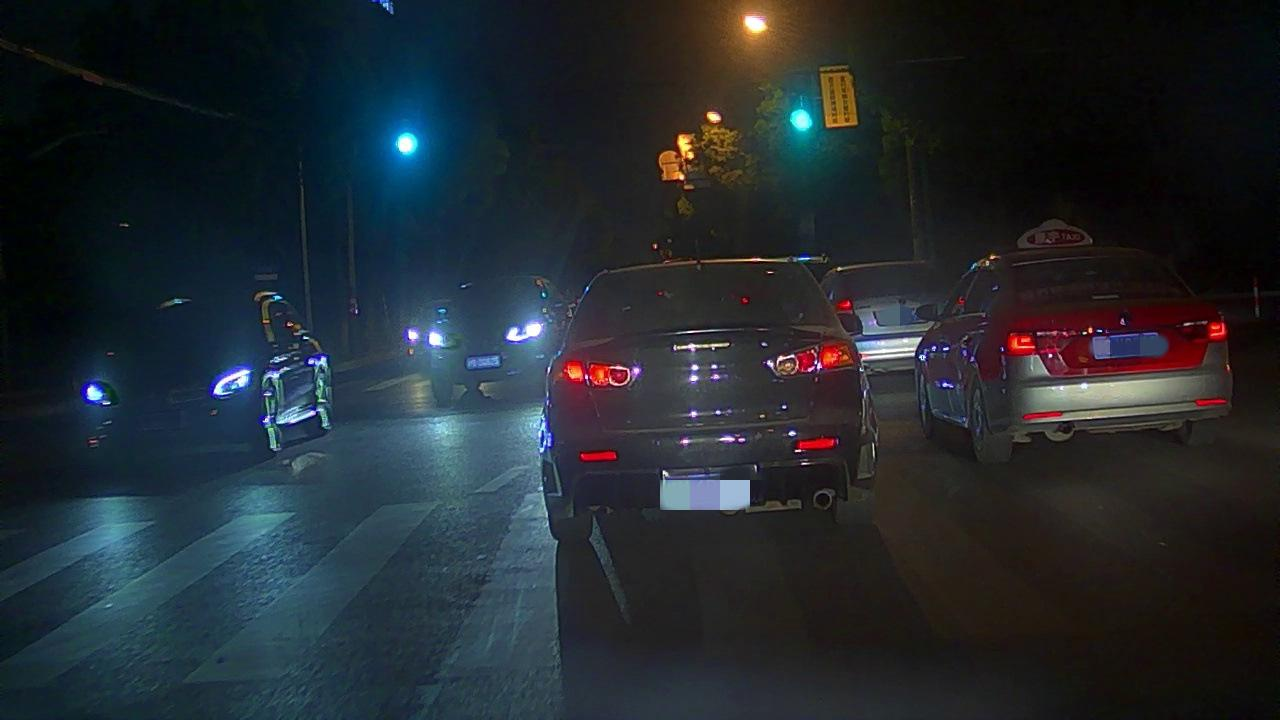traffic_light: (387, 122, 429, 160), (784, 104, 819, 138)
